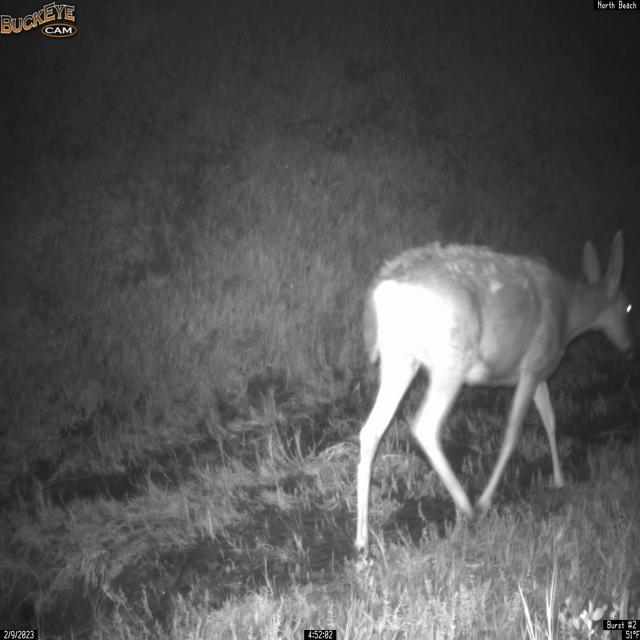deer: (352, 228, 638, 560)
